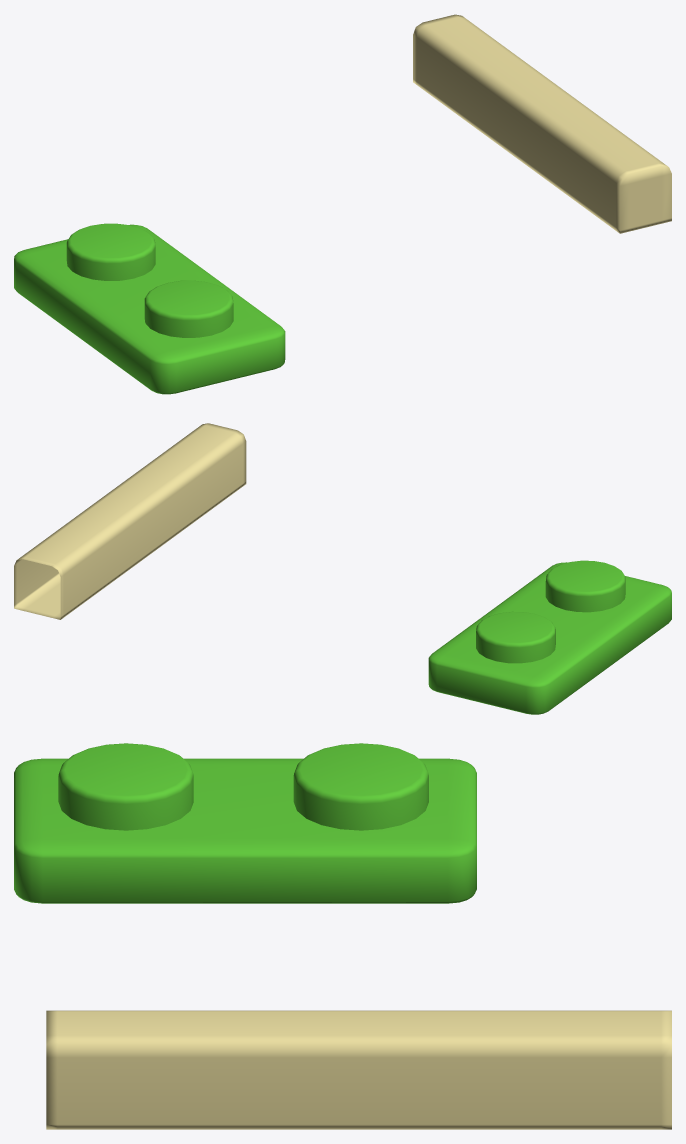
File: onesideopen Border_pivot adjsut.fbx
The picture shows the model from 3 angles, top to bottom: view 1: azimuth 30°, elevation 25°; view 2: azimuth 150°, elevation 25°; view 3: azimuth 270°, elevation 25°; orthographic projection. The views are drawn at different scales.
Visible parts, largest first — view 1: 2Blocks, Border_1sideOpen; view 2: 2Blocks, Border_1sideOpen; view 3: Border_1sideOpen, 2Blocks.
Part boxes in pixels (x1,y1,x2,y2): 2Blocks: [14, 223, 285, 394]; Border_1sideOpen: [413, 14, 671, 233]; 2Blocks: [428, 560, 671, 714]; Border_1sideOpen: [14, 423, 246, 619]; Border_1sideOpen: [46, 1010, 671, 1129]; 2Blocks: [14, 743, 476, 903].
Bounding box in the file's own units: 220 × 40.5 × 159.
